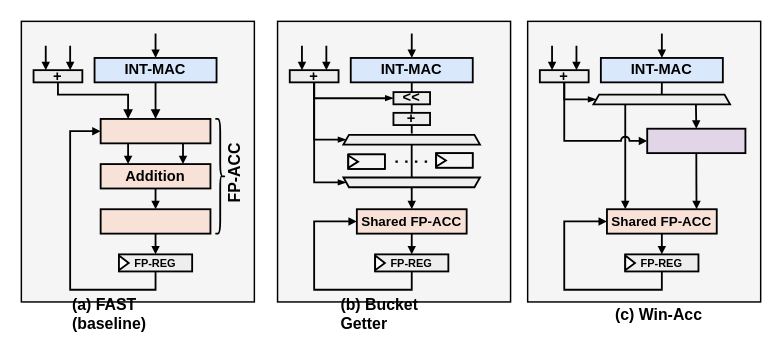
The diagram is 783 pixels wide and 353 high, and some of its shapes have lost their labels. Here are the shapes that lost their labels. From the top down, the box of each, then its label:
(99, 117, 211, 144): Norm & Align
(646, 127, 746, 153): Win-ACC
(99, 208, 211, 234): FXP2FP
